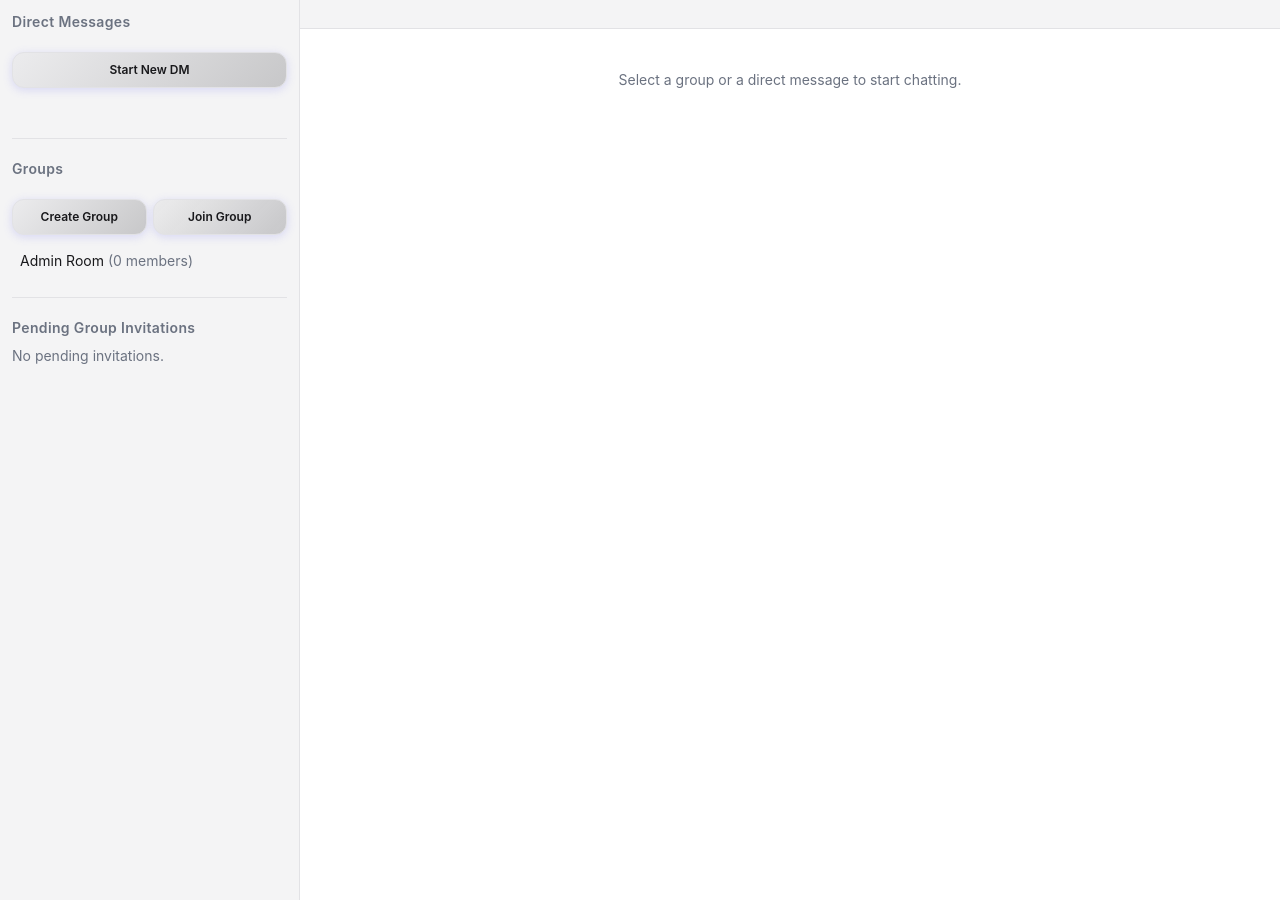
it: Private Spaces (SCRUM-35 network wiring) › PrivateSpacesPage › shows a real chat thread for the selected group
What coordinates should you click on to do the following:
click the text "Admin Room"
I would click on:
 (62, 260)
Its box is [20, 252, 104, 269].
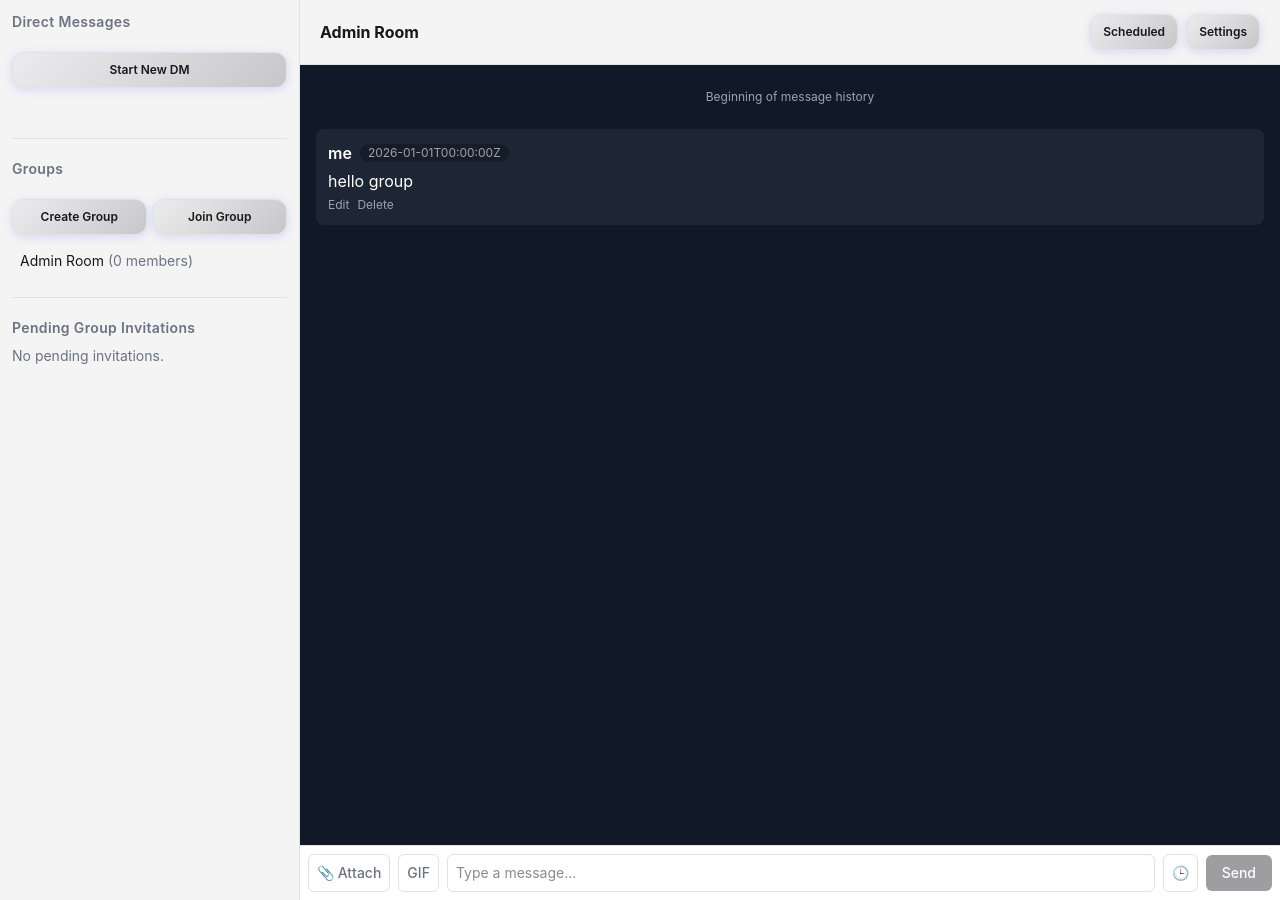
Check: the text "hello group" is shown, box [328, 171, 413, 191]
